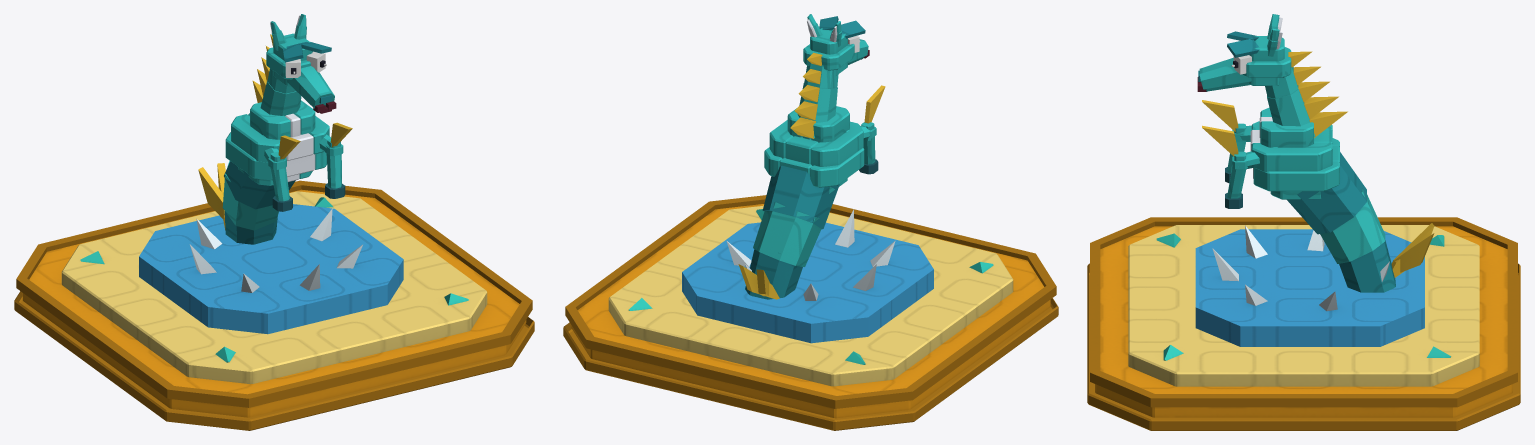
The model's file is GoldManeHippocamp.fbx.
The picture shows the model from 3 angles, left to right: view 1: azimuth 30°, elevation 25°; view 2: azimuth 150°, elevation 25°; view 3: azimuth 270°, elevation 25°; orthographic projection. The views are drawn at different scales.
Parts seen in each view (by area): view 1: Art_GoldManeHippocamp_Stand, Art_GoldManeHippocamp_Wave, Art_GoldManeHippocamp_Body, Art_GoldManeHippocamp_Head, Art_GoldManeHippocamp_ArmR, Art_GoldManeHippocamp_ArmL; view 2: Art_GoldManeHippocamp_Stand, Art_GoldManeHippocamp_Wave, Art_GoldManeHippocamp_Body, Art_GoldManeHippocamp_Head, Art_GoldManeHippocamp_ArmR; view 3: Art_GoldManeHippocamp_Stand, Art_GoldManeHippocamp_Wave, Art_GoldManeHippocamp_Body, Art_GoldManeHippocamp_Head, Art_GoldManeHippocamp_ArmL, Art_GoldManeHippocamp_ArmR.
Part boxes in pixels (x1,y1,x2,y2): Art_GoldManeHippocamp_Stand: (14, 180, 534, 430); Art_GoldManeHippocamp_Wave: (139, 204, 403, 334); Art_GoldManeHippocamp_Body: (198, 100, 329, 244); Art_GoldManeHippocamp_Head: (252, 14, 336, 115); Art_GoldManeHippocamp_ArmR: (262, 135, 300, 211); Art_GoldManeHippocamp_ArmL: (319, 122, 352, 198); Art_GoldManeHippocamp_Stand: (563, 195, 1058, 430); Art_GoldManeHippocamp_Wave: (682, 209, 933, 343); Art_GoldManeHippocamp_Body: (738, 106, 864, 299); Art_GoldManeHippocamp_Head: (790, 14, 869, 138); Art_GoldManeHippocamp_ArmR: (846, 85, 885, 174); Art_GoldManeHippocamp_Stand: (1087, 217, 1520, 430); Art_GoldManeHippocamp_Wave: (1195, 225, 1424, 346); Art_GoldManeHippocamp_Body: (1250, 107, 1434, 292); Art_GoldManeHippocamp_Head: (1197, 14, 1347, 137); Art_GoldManeHippocamp_ArmL: (1202, 125, 1277, 208); Art_GoldManeHippocamp_ArmR: (1202, 100, 1251, 182).
Bounding box in the file's own units: 3.4 × 2.76 × 3.4.
